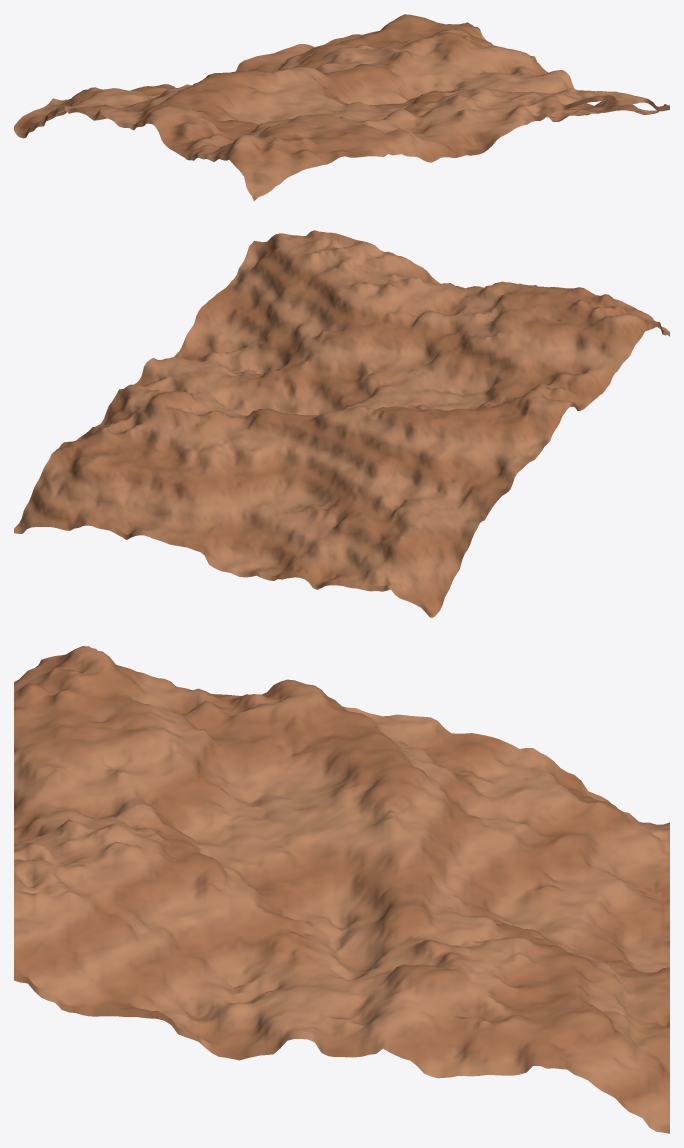
The model's file is terrain-032.glb.
3 renders of one model, top to bottom at view 1: azimuth 30°, elevation 25°; view 2: azimuth 150°, elevation 25°; view 3: azimuth 270°, elevation 25°, orthographic. The views are drawn at different scales.
Visible parts, largest first — view 1: terrain-032; view 2: terrain-032; view 3: terrain-032.
Boxes of the visible parts, left/top/right/bottom form: terrain-032: left=14, top=14, right=669, bottom=200; terrain-032: left=14, top=230, right=669, bottom=617; terrain-032: left=14, top=646, right=669, bottom=1133.
Size of the model in its own units: 384 by 141 by 384.
